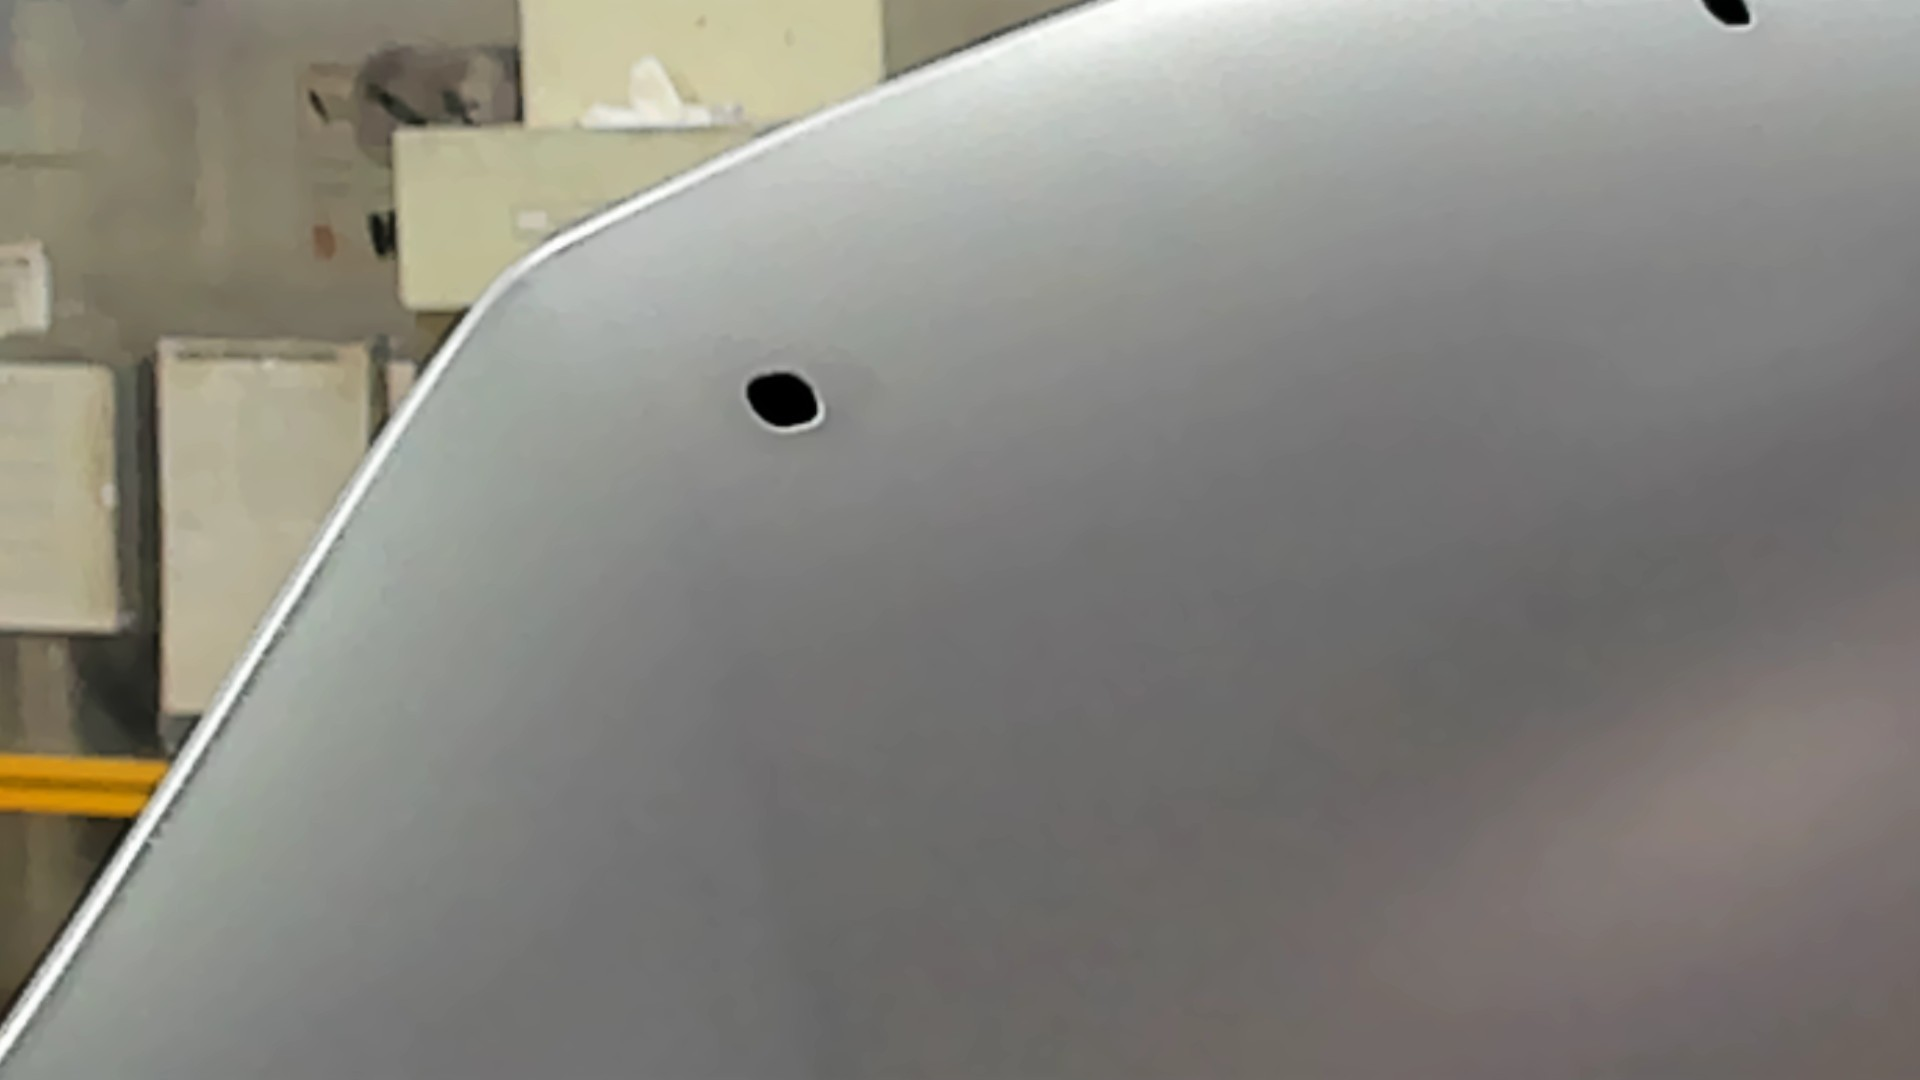amorfo: (735, 364, 833, 440), (1693, 1, 1774, 44)
capo: (934, 132, 1920, 1080)
